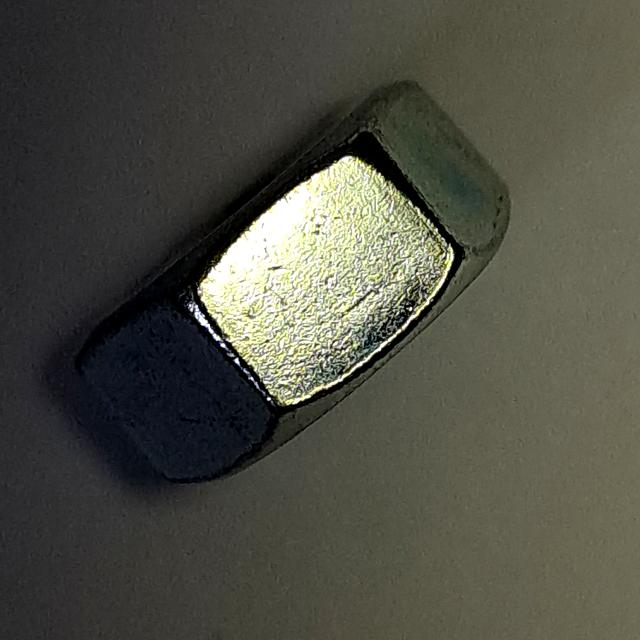Side_Excellent: (66, 68, 525, 501)
